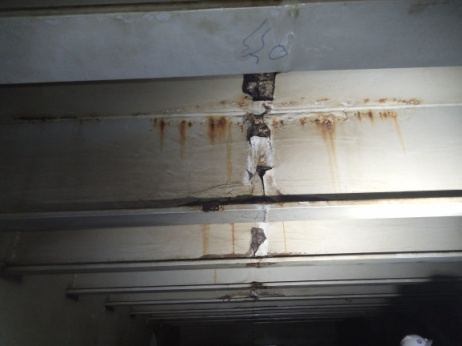corrosion: (231, 74, 281, 113), (237, 156, 285, 193), (319, 113, 342, 188), (239, 118, 276, 152), (202, 112, 235, 149), (247, 222, 276, 256), (148, 114, 171, 153), (222, 226, 245, 265), (351, 110, 408, 124), (271, 117, 319, 130), (174, 119, 192, 150), (199, 198, 230, 216), (199, 222, 214, 255), (241, 283, 269, 300)
